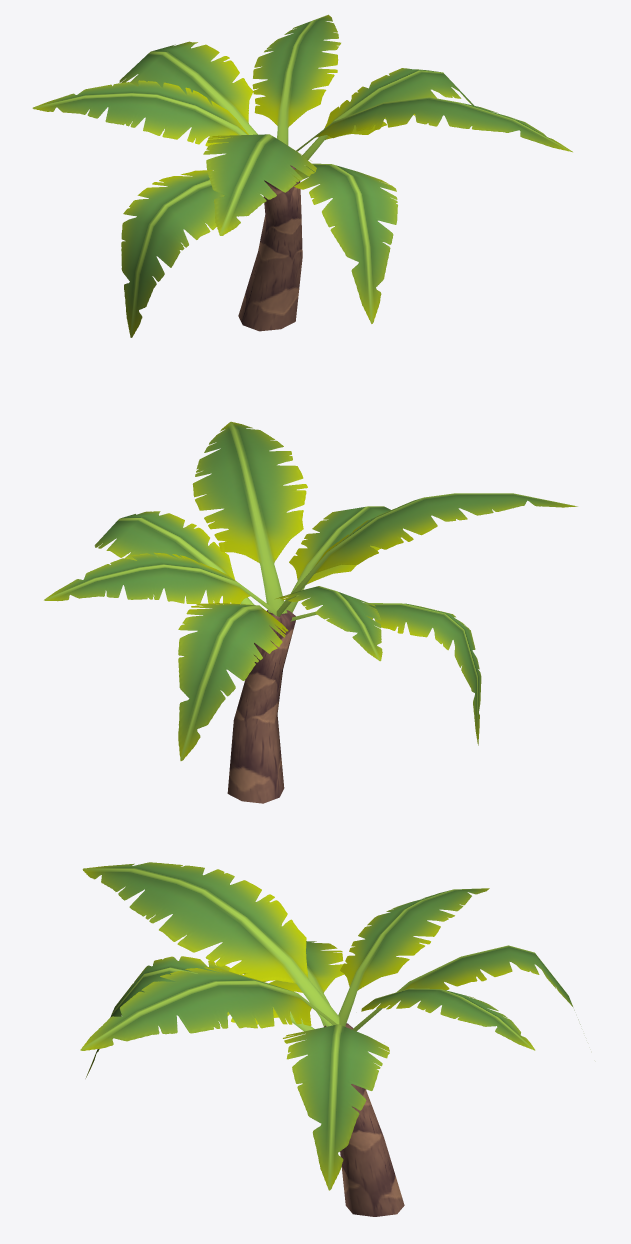
Rendered from palm-5.glb.
The picture shows the model from 3 angles, top to bottom: view 1: azimuth 30°, elevation 25°; view 2: azimuth 150°, elevation 25°; view 3: azimuth 270°, elevation 25°; orthographic projection. The views are drawn at different scales.
Parts seen in each view (by area): view 1: PalmTree_5; view 2: PalmTree_5; view 3: PalmTree_5.
Boxes of the visible parts, x1,y1,x2,y2 form: PalmTree_5: (32,14,572,337); PalmTree_5: (44,421,577,803); PalmTree_5: (80,862,580,1216).
Bounding box in the file's own units: 3.49 × 1.8 × 3.62.
Materials: 2 (2 with a texture image).
